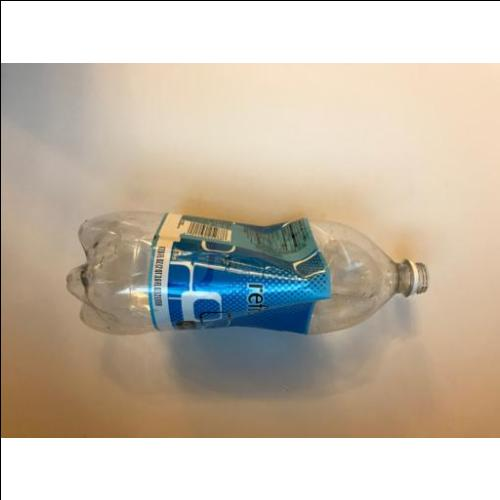plastic: (69, 212, 427, 335)
